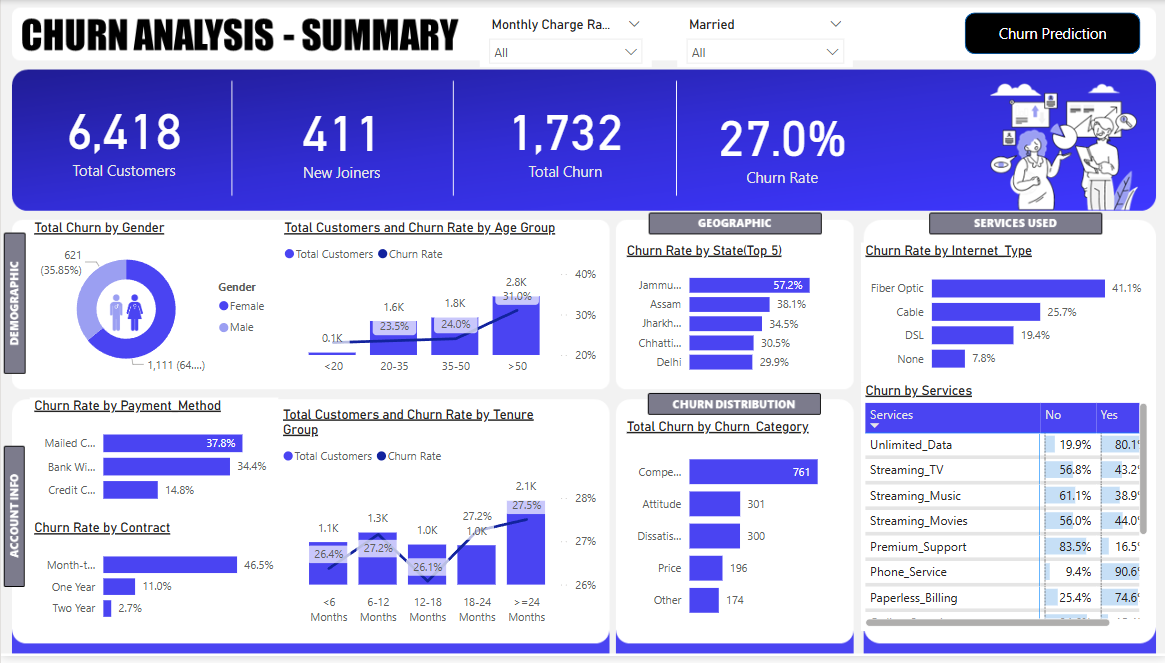

This screenshot's page, from the dashboard's own definition file:
{"tool":"powerbi","page":{"name":"Summary","canvas":[1280,720],"ordinal":0},"visuals":[{"type":"card","fields":{"Values":["tbl_Measures.New Joiners"]},"box":[251.1,60.4,245.6,179.8],"z":0},{"type":"card","fields":{"Values":["tbl_Measures.Total Customers"]},"box":[9.6,59,251.1,179.8],"z":1000},{"type":"card","fields":{"Values":["tbl_Measures.Total Churn"]},"box":[496.7,71.4,245.6,156.4],"z":2000},{"type":"card","fields":{"Values":["tbl_Measures.Churn Rate"]},"box":[742.4,71.4,230.5,168.8],"z":3000},{"type":"donutChart","fields":{"Category":["prod_Churn.Gender"],"Y":["tbl_Measures.Total Churn"]},"box":[31.6,241.5,273.1,178.4],"z":4000},{"type":"lineStackedColumnComboChart","fields":{"Category":["mapping_AgeGrp.Age Group"],"Y":["tbl_Measures.Total Customers"],"Y2":["tbl_Measures.Churn Rate"]},"box":[306,241.5,352.7,178.4],"z":5000},{"type":"clusteredBarChart","fields":{"Category":["prod_Churn.Payment_Method"],"Y":["tbl_Measures.Churn Rate"]},"box":[31.6,436.4,273.1,127.6],"z":6000},{"type":"clusteredBarChart","fields":{"Category":["prod_Churn.Contract"],"Y":["tbl_Measures.Churn Rate"]},"box":[31.6,570.8,273.1,122.1],"z":7000},{"type":"lineStackedColumnComboChart","fields":{"Category":["mapping_TenureGrp.Tenure Group"],"Y":["tbl_Measures.Total Customers"],"Y2":["tbl_Measures.Churn Rate"]},"box":[304.6,446,354,247],"z":8000},{"type":"clusteredBarChart","title":"Churn Rate by State(Top 5)","fields":{"Category":["prod_Churn.State"],"Y":["tbl_Measures.Churn Rate"]},"box":[682,266.2,244.3,153.7],"z":9000},{"type":"clusteredBarChart","fields":{"Category":["prod_Churn.Churn_Category"],"Y":["tbl_Measures.Total Churn"]},"box":[682,459.7,244.3,233.3],"z":10000},{"type":"clusteredBarChart","fields":{"Category":["prod_Churn.Internet_Type"],"Y":["tbl_Measures.Churn Rate"]},"box":[944.1,266.2,319.7,153.7],"z":11000},{"type":"pivotTable","title":"Churn by Services","fields":{"Rows":["prod_Services.Services"],"Columns":["prod_Services.Status"],"Values":["Sum(prod_Services.Churn Status)"]},"box":[944.1,419.9,319.7,273.1],"z":12000},{"type":"slicer","fields":{"Values":["prod_Churn.Monthly Charge Status"]},"box":[525.7,14.3,188.6,60],"z":13000},{"type":"image","box":[107,310.1,61.7,64.5],"z":14000},{"type":"slicer","fields":{"Values":["prod_Churn.Married"]},"box":[742.9,14.3,192.9,60],"z":15000},{"type":"shape","box":[1058.6,14.3,192.9,45.7],"z":16000}]}

Visuals, with their boxes in screenshot pixels (x1, y1, x2, y2), scaled from the page's 1280x720 canvas onto the 1165x663 screenshot:
card - tbl_Measures.New Joiners: [left=229, top=56, right=452, bottom=221]
card - tbl_Measures.Total Customers: [left=9, top=54, right=237, bottom=220]
card - tbl_Measures.Total Churn: [left=452, top=66, right=676, bottom=210]
card - tbl_Measures.Churn Rate: [left=676, top=66, right=885, bottom=221]
donutChart - prod_Churn.Gender x tbl_Measures.Total Churn: [left=29, top=222, right=277, bottom=387]
lineStackedColumnComboChart - mapping_AgeGrp.Age Group x tbl_Measures.Total Customers: [left=279, top=222, right=600, bottom=387]
clusteredBarChart - prod_Churn.Payment_Method x tbl_Measures.Churn Rate: [left=29, top=402, right=277, bottom=519]
clusteredBarChart - prod_Churn.Contract x tbl_Measures.Churn Rate: [left=29, top=526, right=277, bottom=638]
lineStackedColumnComboChart - mapping_TenureGrp.Tenure Group x tbl_Measures.Total Customers: [left=277, top=411, right=599, bottom=638]
"Churn Rate by State(Top 5)" clusteredBarChart: [left=621, top=245, right=843, bottom=387]
clusteredBarChart - prod_Churn.Churn_Category x tbl_Measures.Total Churn: [left=621, top=423, right=843, bottom=638]
clusteredBarChart - prod_Churn.Internet_Type x tbl_Measures.Churn Rate: [left=859, top=245, right=1150, bottom=387]
"Churn by Services" pivotTable: [left=859, top=387, right=1150, bottom=638]
slicer - prod_Churn.Monthly Charge Status: [left=478, top=13, right=650, bottom=68]
image: [left=97, top=286, right=154, bottom=345]
slicer - prod_Churn.Married: [left=676, top=13, right=852, bottom=68]
shape: [left=963, top=13, right=1139, bottom=55]
